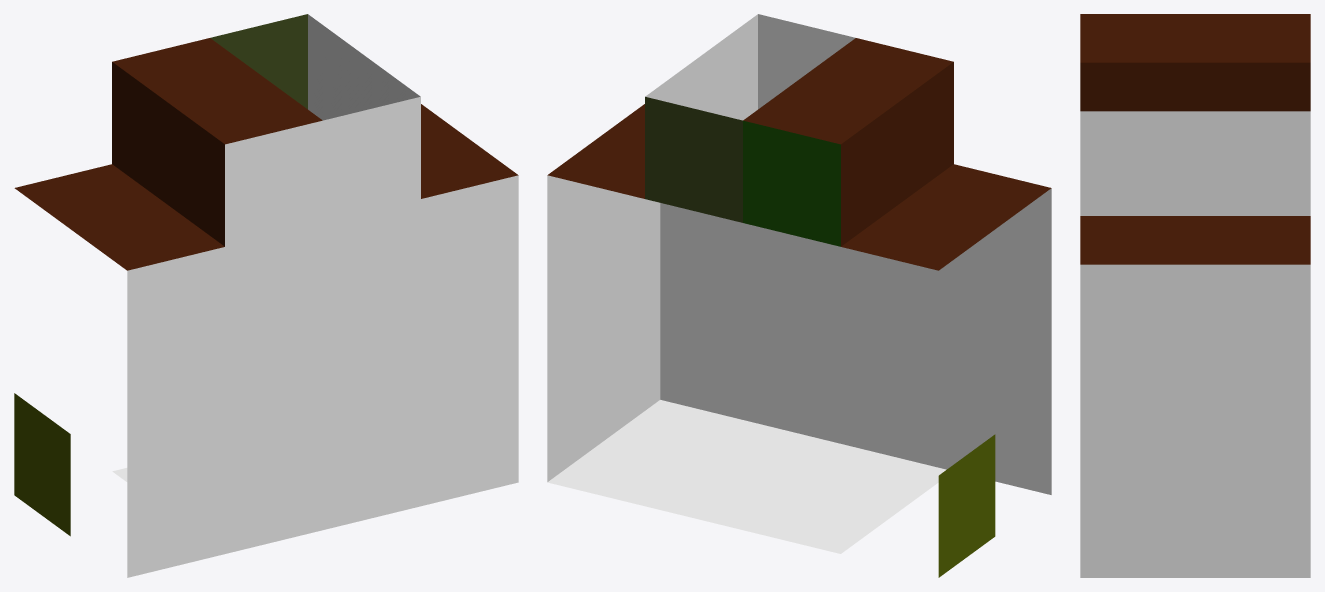
Rendered from block_33.fbx.
3 renders of one model, left to right at view 1: azimuth 30°, elevation 25°; view 2: azimuth 150°, elevation 25°; view 3: azimuth 270°, elevation 25°, orthographic. The views are drawn at different scales.
Parts seen in each view (by area): view 1: box; view 2: box; view 3: box.
Part boxes in pixels (x1=…): box: x1=14, y1=14, x2=518, y2=577; box: x1=547, y1=14, x2=1051, y2=577; box: x1=1080, y1=14, x2=1310, y2=577.
Bounding box in the file's own units: 4 × 2 × 4.
1 material, 1 textured.
